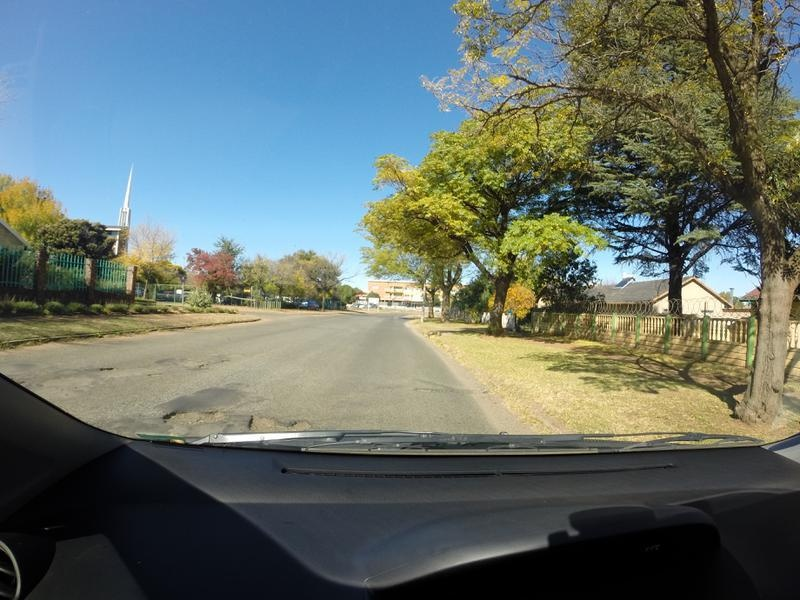pothole: (137, 410, 224, 427), (241, 419, 315, 433), (402, 389, 475, 397), (92, 365, 115, 370), (196, 362, 208, 370), (214, 356, 225, 363), (138, 374, 160, 376)
